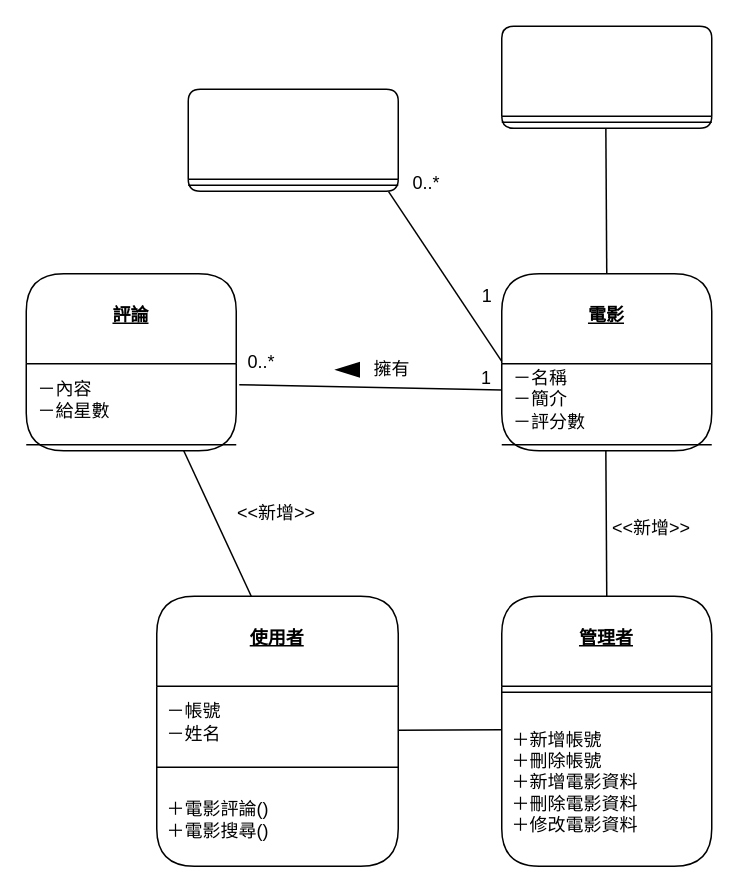
The diagram is 738 pixels wide and 893 high, and some of its shapes have lost their labels. Each missing label, with the centre of its shape:
"電影星等數" belongs at point 606,76.
"電影評論數" belongs at point 292,139.
